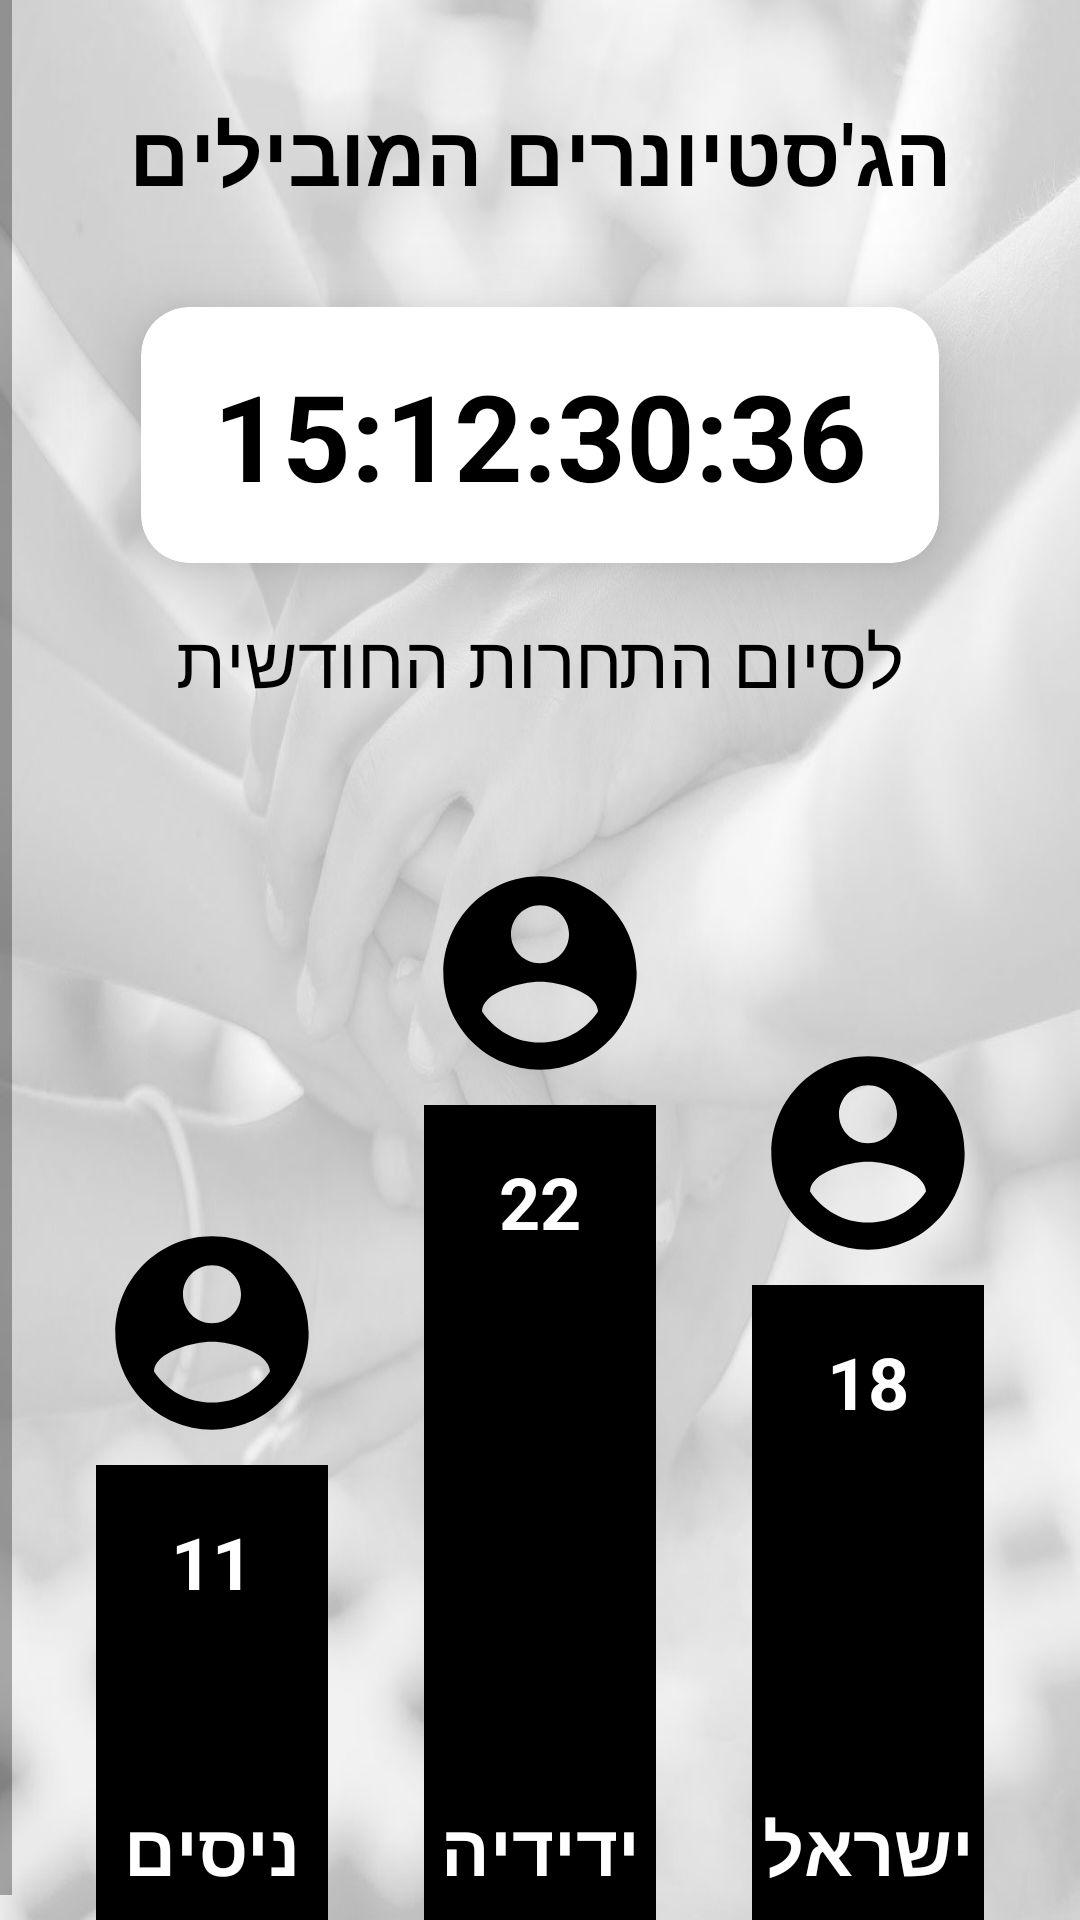

Screen size 1080×1920. Icon name, then its center in pixels as point (x, y):
account circle: point (540, 984), point (868, 1164), point (212, 1335)
